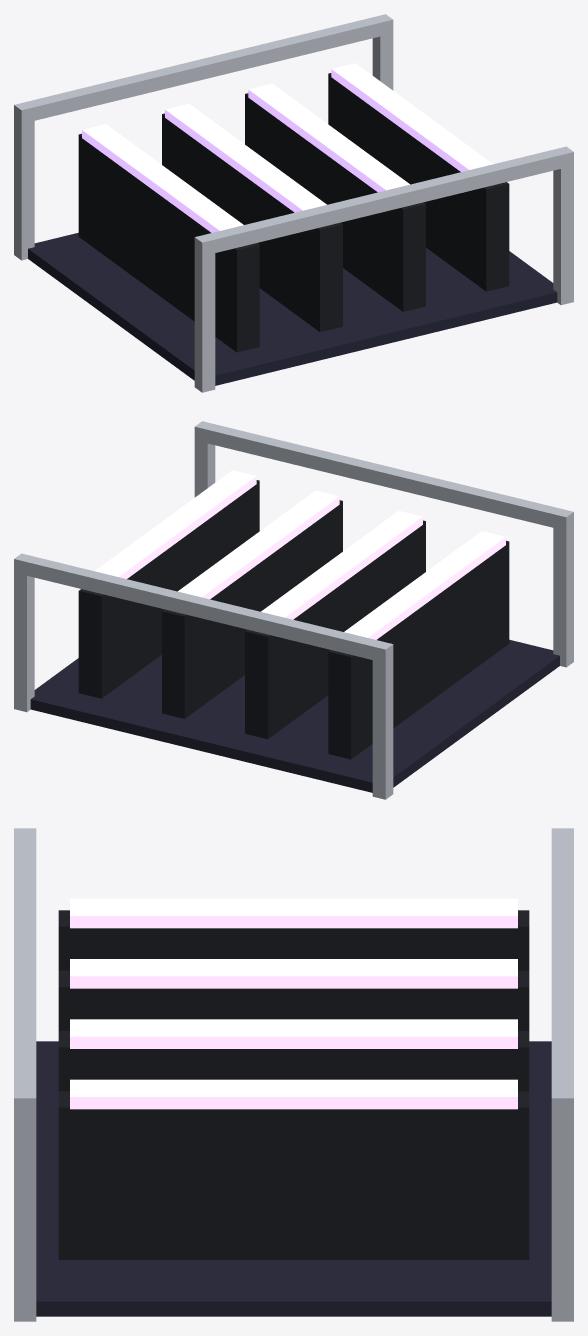
The model's file is station_buffer_ausstattung_1_1.glb.
3 views of the same model, one above another, from view 1: azimuth 30°, elevation 25°; view 2: azimuth 150°, elevation 25°; view 3: azimuth 270°, elevation 25° (orthographic). The views are drawn at different scales.
Parts seen in each view (by area): view 1: station_buffer_ausstattung_1_1; view 2: station_buffer_ausstattung_1_1; view 3: station_buffer_ausstattung_1_1.
Boxes of the visible parts, bbox=[...] form: station_buffer_ausstattung_1_1: bbox=[14, 14, 573, 392]; station_buffer_ausstattung_1_1: bbox=[14, 421, 573, 799]; station_buffer_ausstattung_1_1: bbox=[14, 828, 573, 1321].
Bounding box in the file's own units: 0.57 × 0.22 × 0.5.
